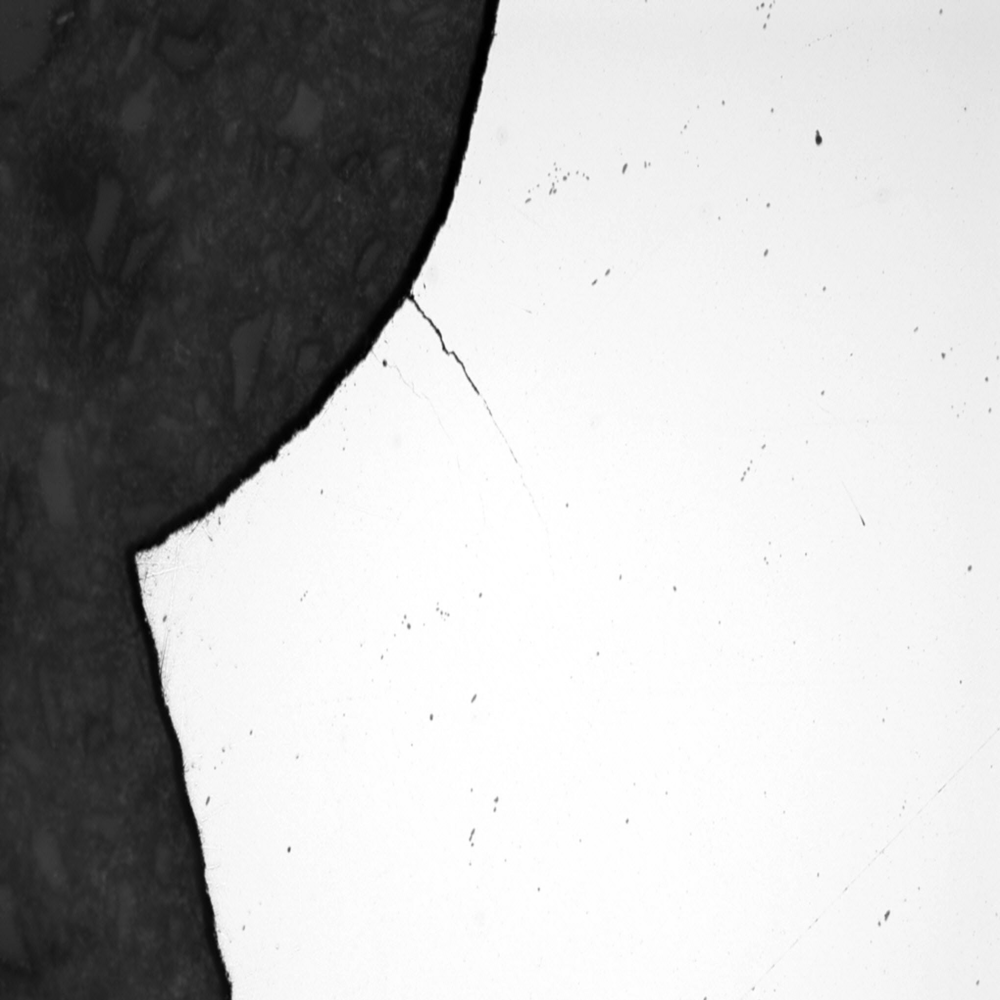crack: (366, 281, 595, 553)
